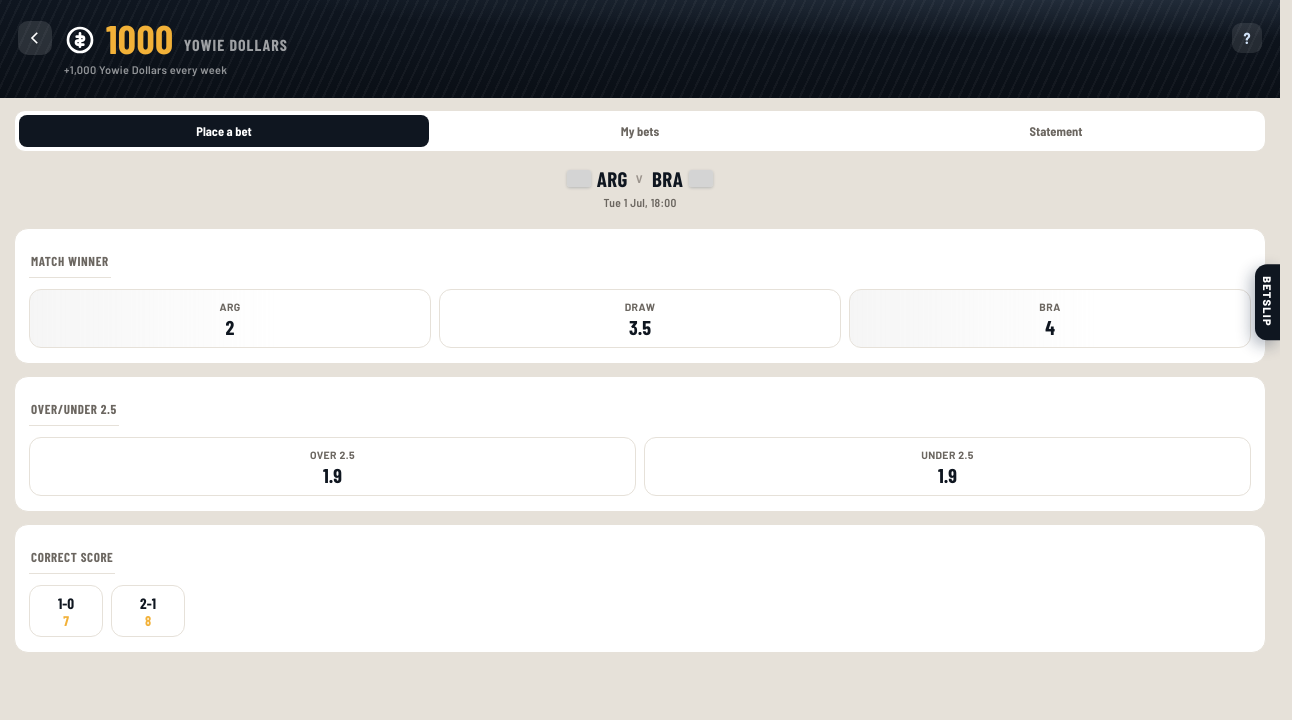
Test case: the Statement tab shows the Yowie Dollars statement
Click the button "Statement": (1056, 131) [851,115,1261,147]
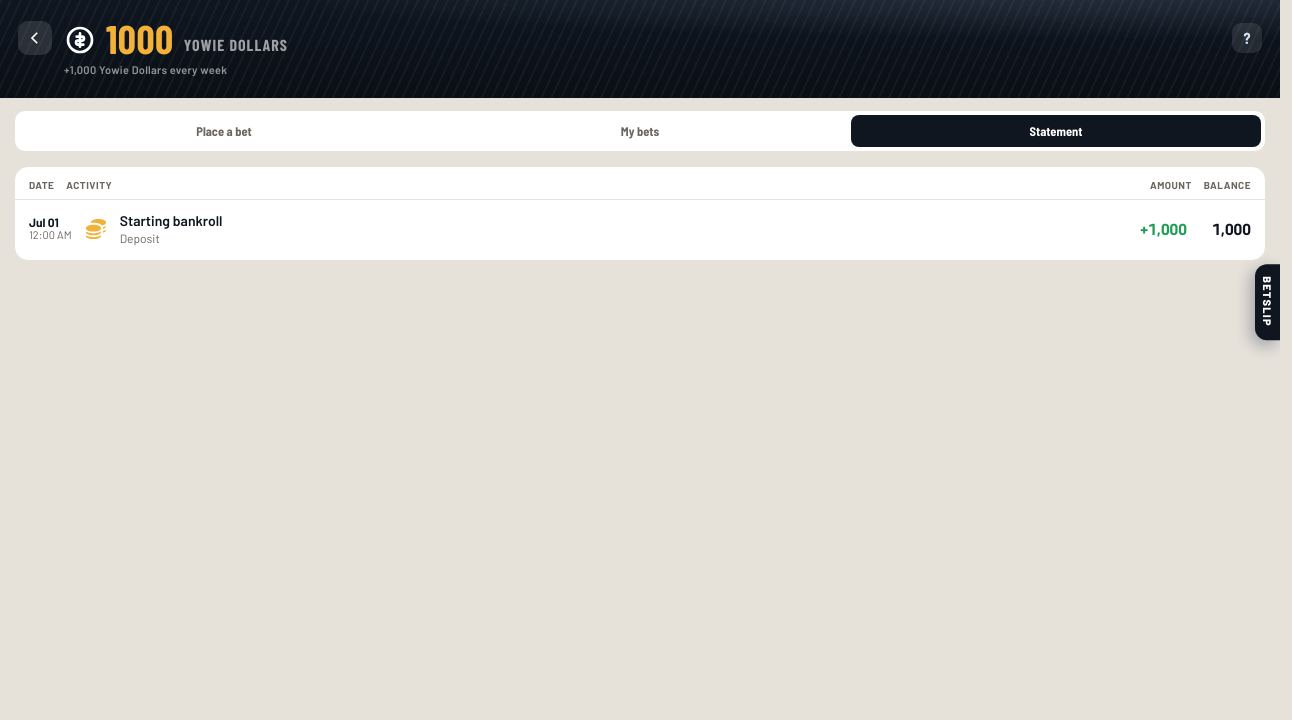
Check: the text "Starting bankroll" is shown, box [120,212,222,230]
Check: the text "Balance" is shown, box [1204,179,1251,191]
